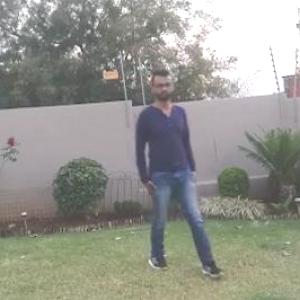follow: (118, 67, 190, 275)
